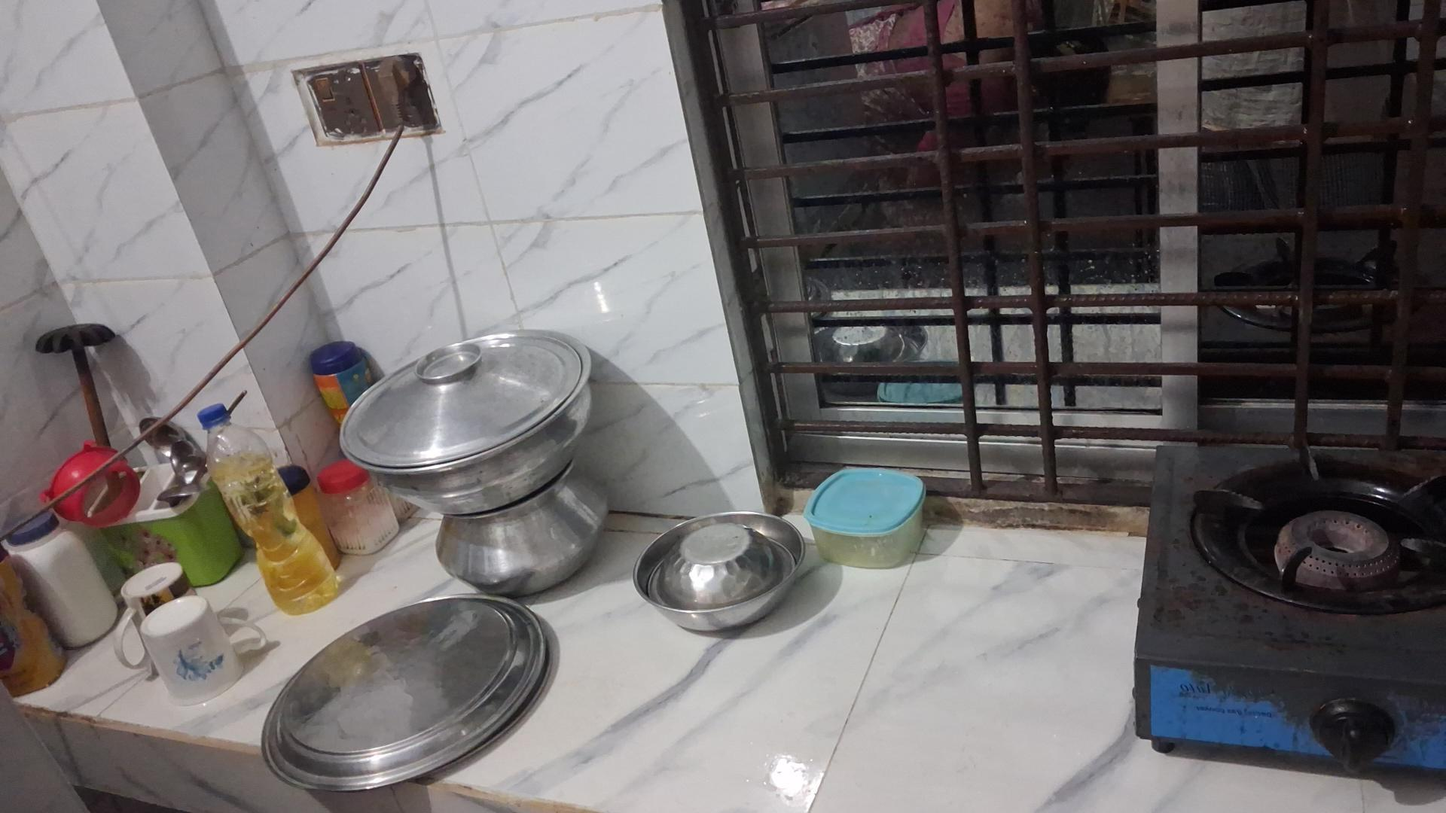Bottle: (194, 409, 345, 616)
Bowl: (635, 512, 804, 635)
Jar: (0, 518, 120, 640), (802, 467, 932, 572), (314, 467, 404, 545)
Mug: (138, 601, 255, 704)
Plate: (261, 590, 547, 792)
Pot: (345, 337, 597, 516), (435, 484, 605, 601)
